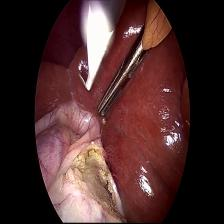Grasper: (92, 24, 156, 128)
Hook: (66, 7, 118, 101)
